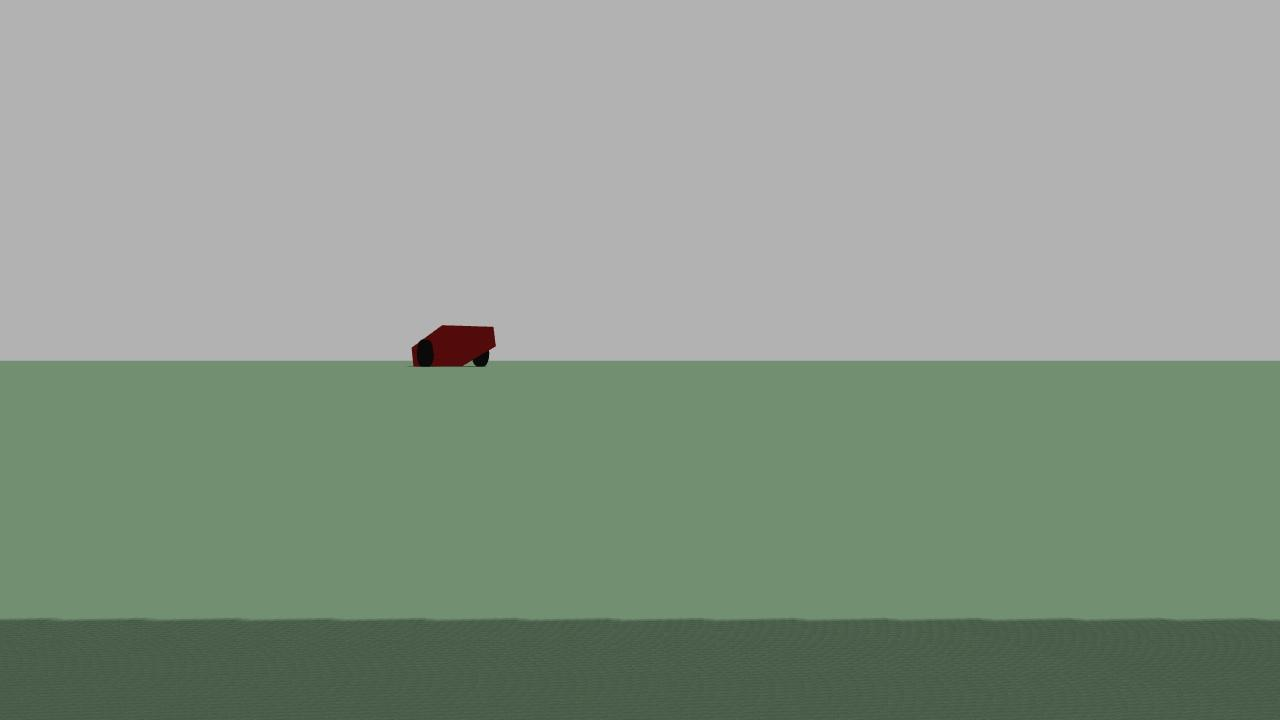ground_vehicle: (401, 320, 498, 372)
